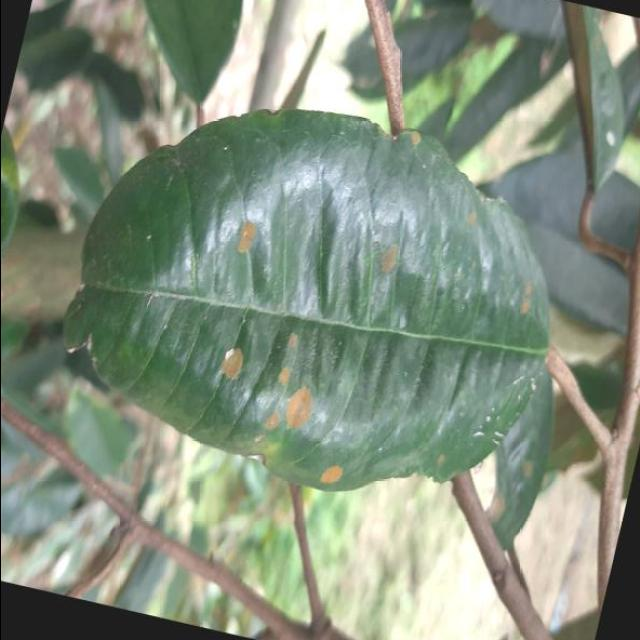Algal Leaf Spot: (31, 52, 599, 542)
